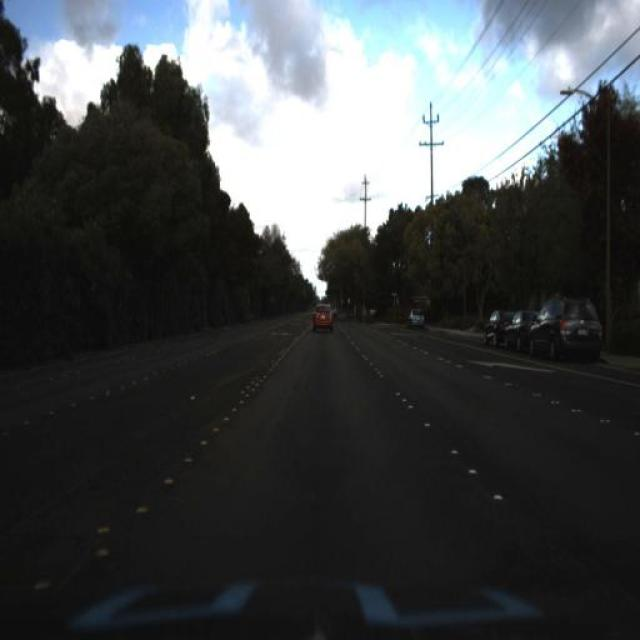car: (529, 293, 605, 359), (502, 307, 538, 348), (479, 301, 508, 347), (309, 300, 336, 346), (402, 304, 424, 328)
